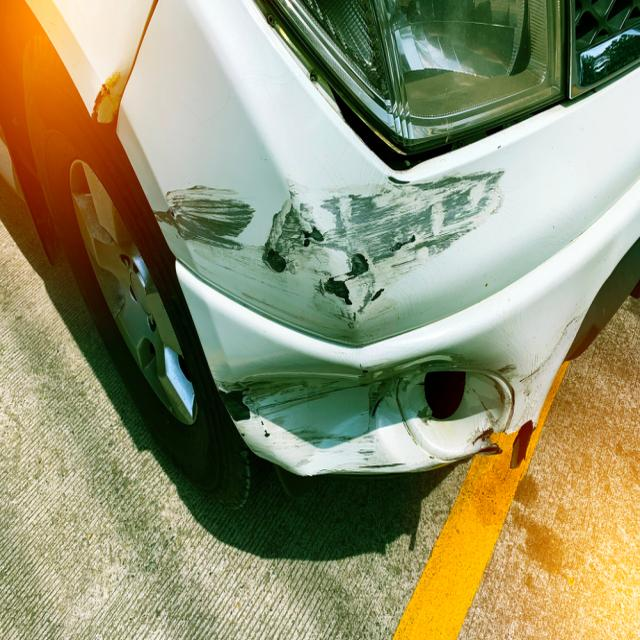dent: (220, 348, 520, 474)
scratch: (151, 165, 508, 336)
